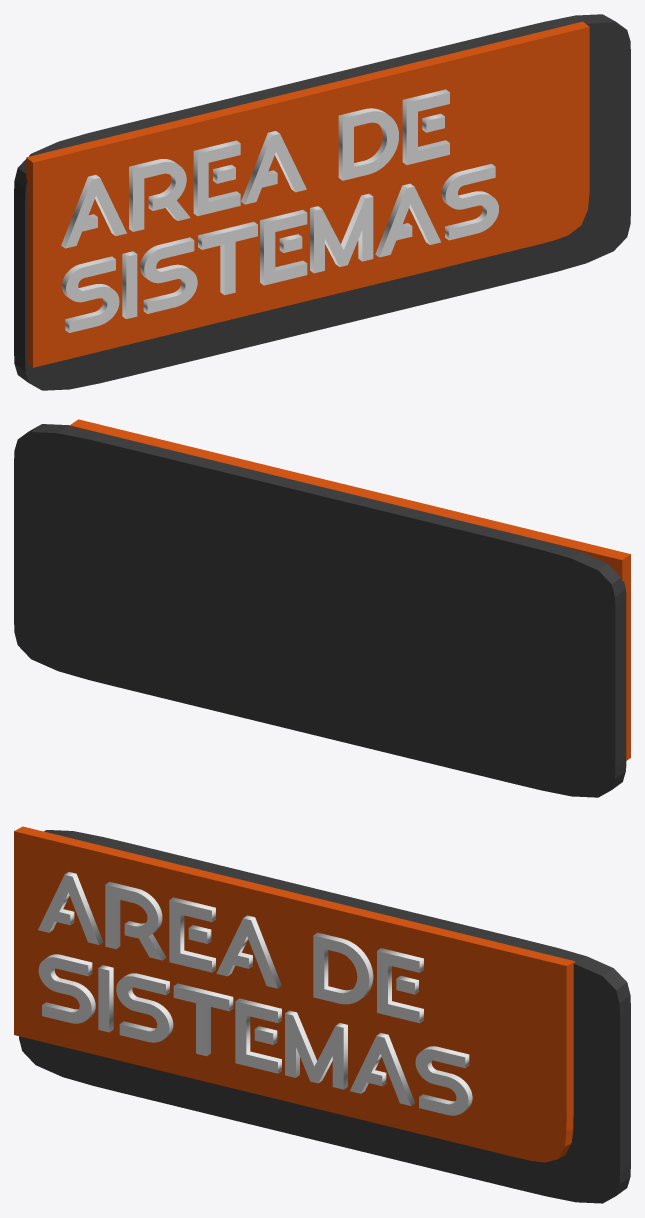
The model's file is letrero area de sistemas.fbx.
3 renders of one model, top to bottom at view 1: azimuth 30°, elevation 25°; view 2: azimuth 150°, elevation 25°; view 3: azimuth 330°, elevation 25°, orthographic.
Parts seen in each view (by area): view 1: Plane.015, Plane.014, Text.007; view 2: Plane.014, Plane.015; view 3: Plane.015, Plane.014, Text.007.
Part boxes in pixels (x1=…): Plane.015: x1=26, y1=21, x2=589, y2=367; Plane.014: x1=14, y1=14, x2=630, y2=390; Text.007: x1=61, y1=89, x2=498, y2=332; Plane.014: x1=14, y1=424, x2=626, y2=797; Plane.015: x1=69, y1=419, x2=630, y2=760; Plane.015: x1=14, y1=826, x2=575, y2=1162; Plane.014: x1=19, y1=830, x2=630, y2=1203; Text.007: x1=38, y1=872, x2=472, y2=1115.
Size of the model in its own units: 5.23 by 2.01 by 0.3205.
